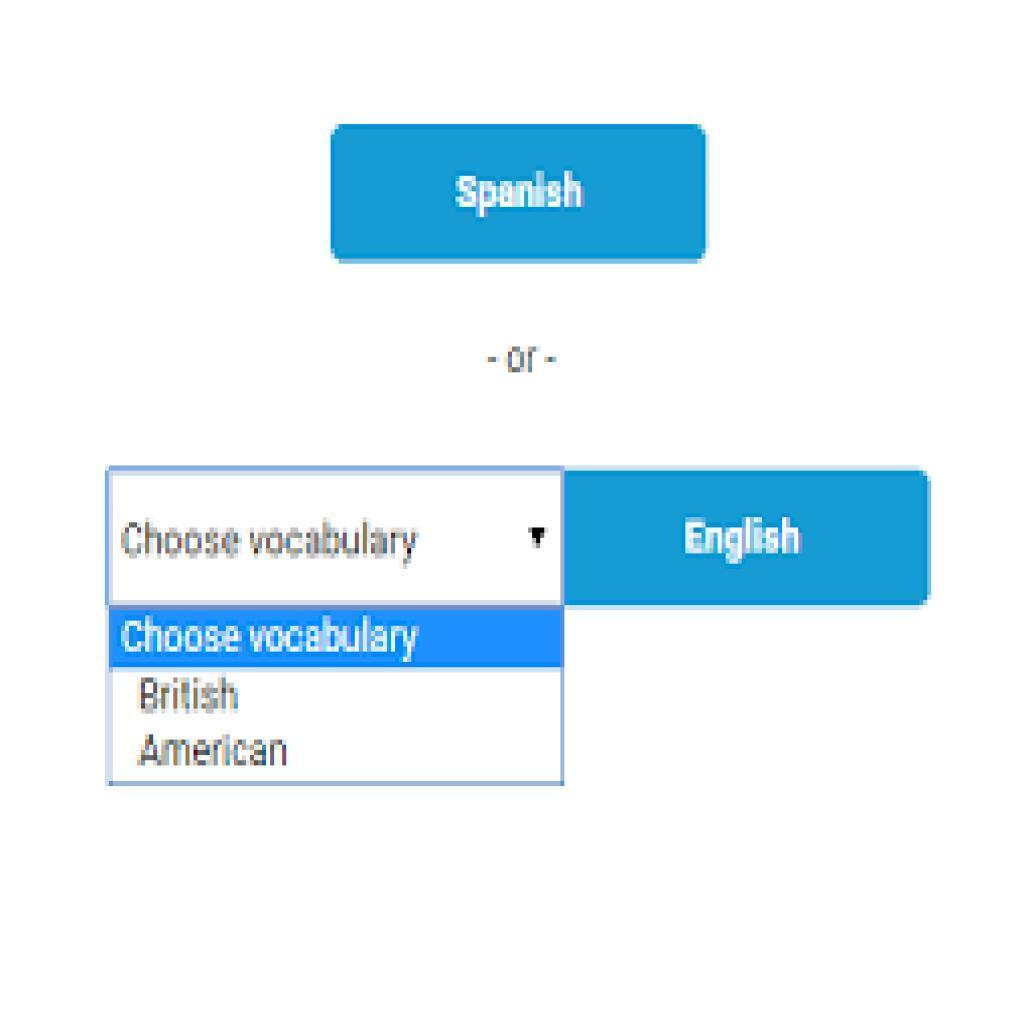button: (332, 122, 707, 260), (564, 470, 932, 609), (107, 604, 566, 671)
dropdown: (105, 470, 566, 609)
